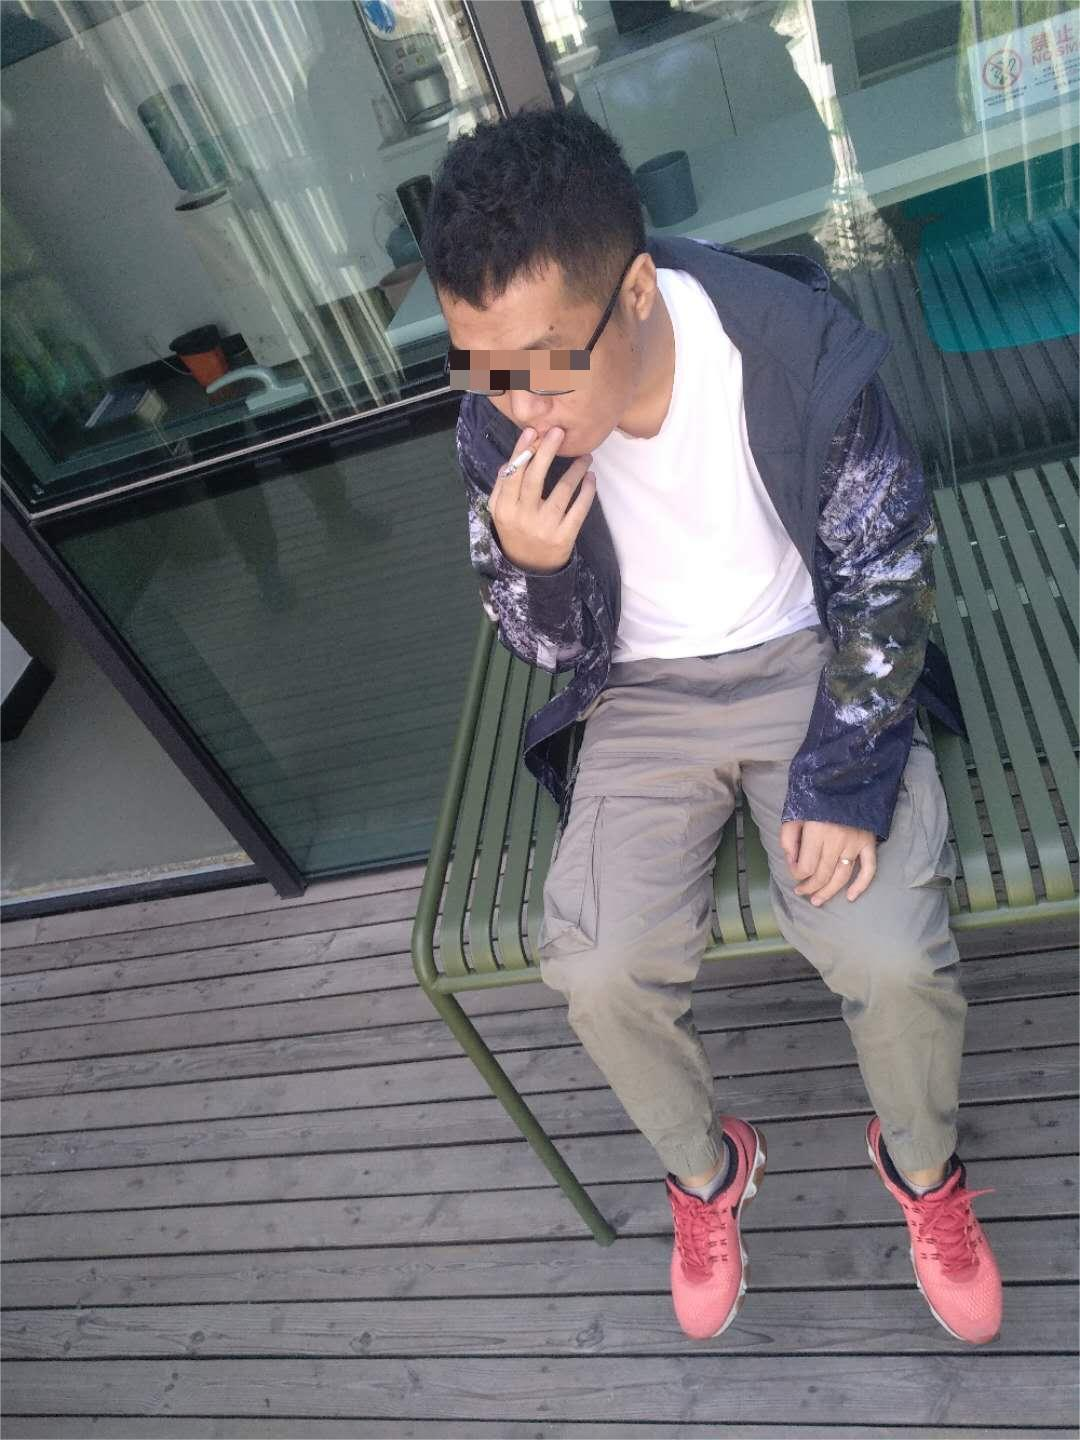smoke: (501, 438, 545, 480)
